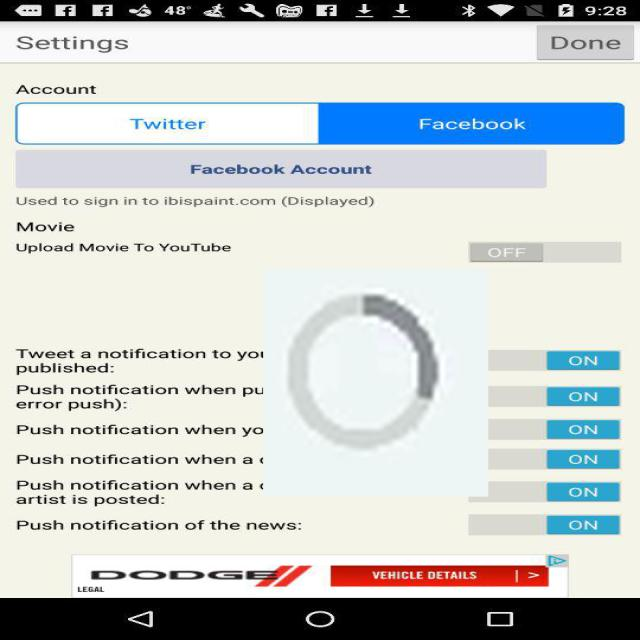misdirection: (263, 269, 488, 497)
